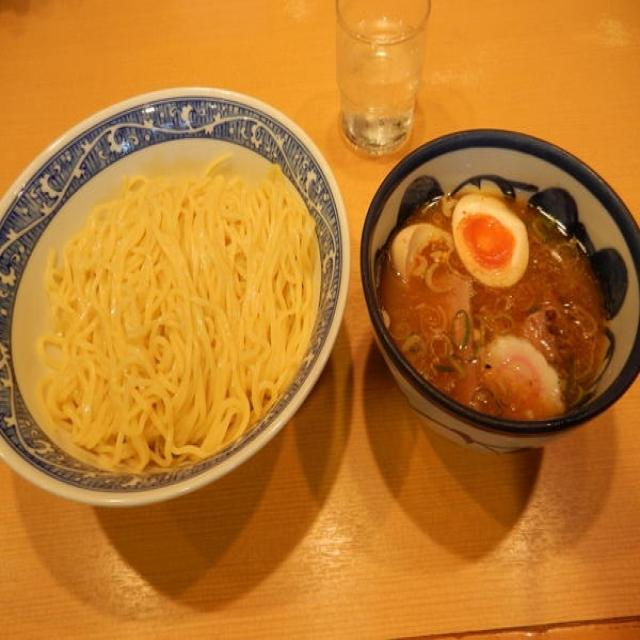面条主食: (2, 82, 640, 515)
